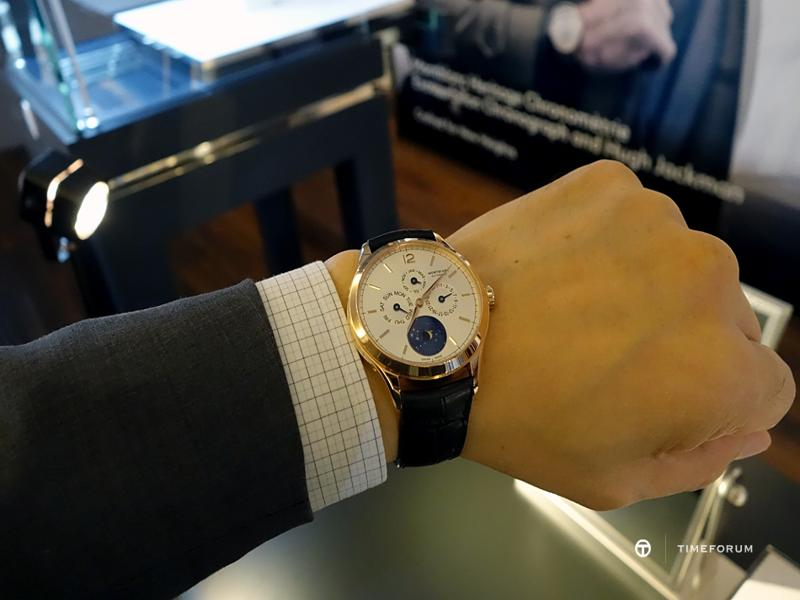watch: (346, 227, 495, 470)
